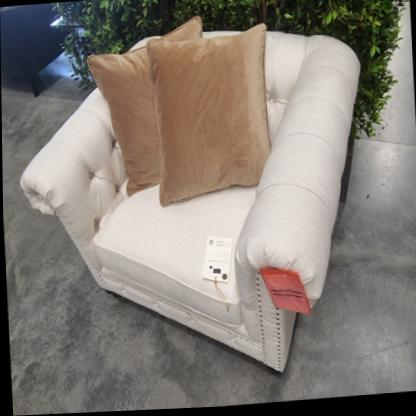Sofa: (7, 6, 380, 404)
